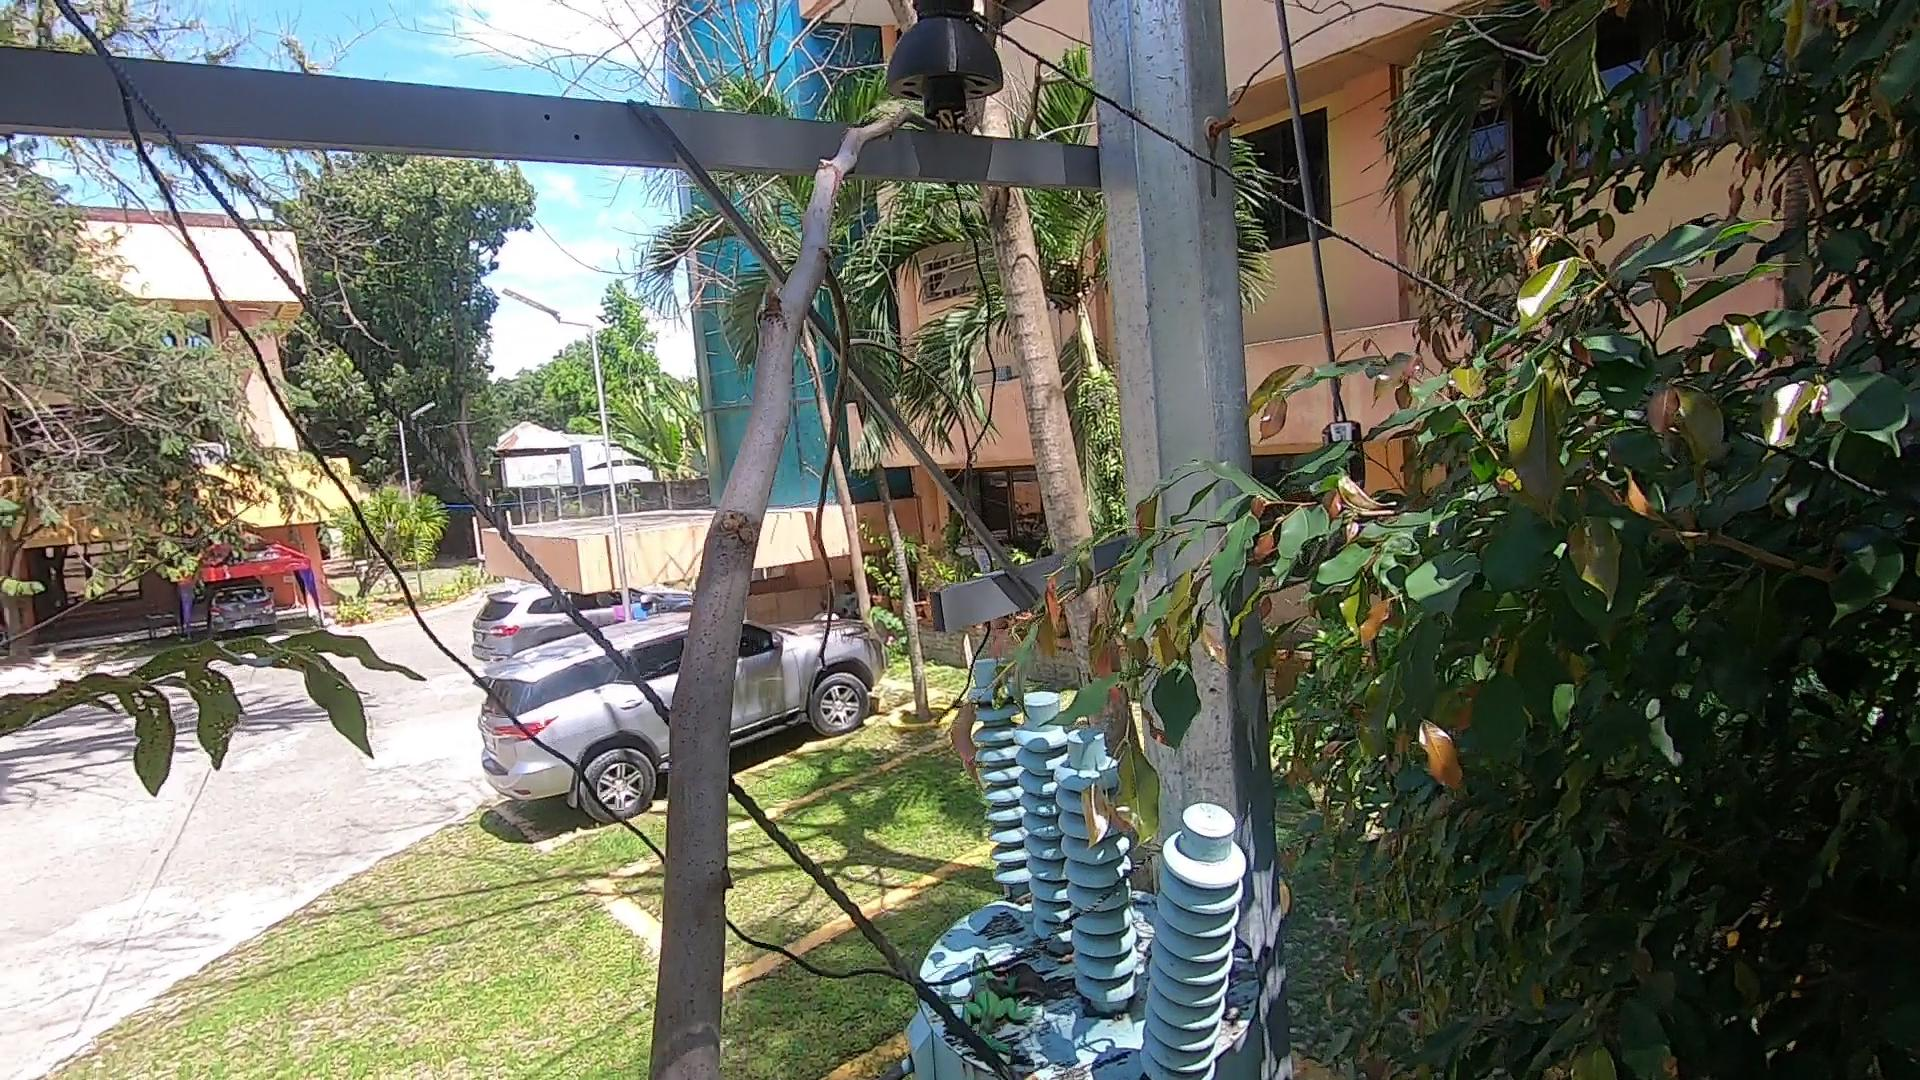branch with leaves: (945, 473, 1222, 855)
leaf: (985, 949, 1091, 1009), (996, 886, 1060, 915)
tree branch: (607, 15, 902, 1080)
